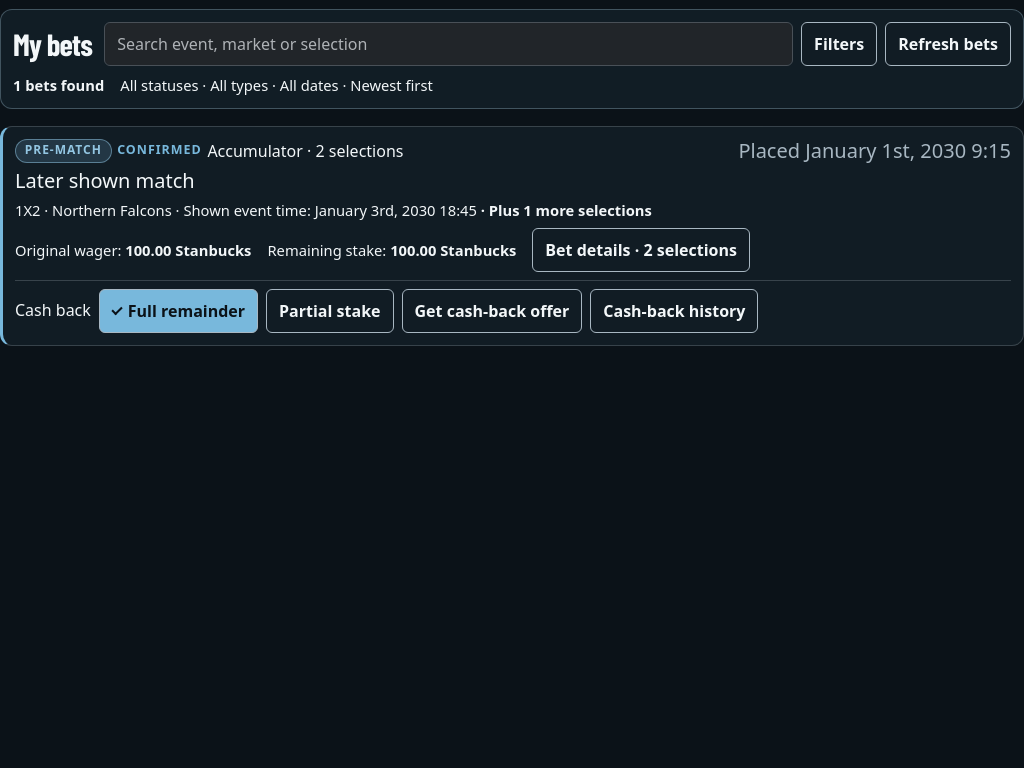
Test: MyBets › associates an accumulator summary time with the shown first event, not its earlier second event
Expected: the heading "Later shown match" is shown, [15,167,195,194]
Expected: the text "Shown event time: January 3rd, 2030 18:45" is shown, [183,200,477,220]
Click the button "Bet details · 2 selections": (641, 250) [532,228,750,272]
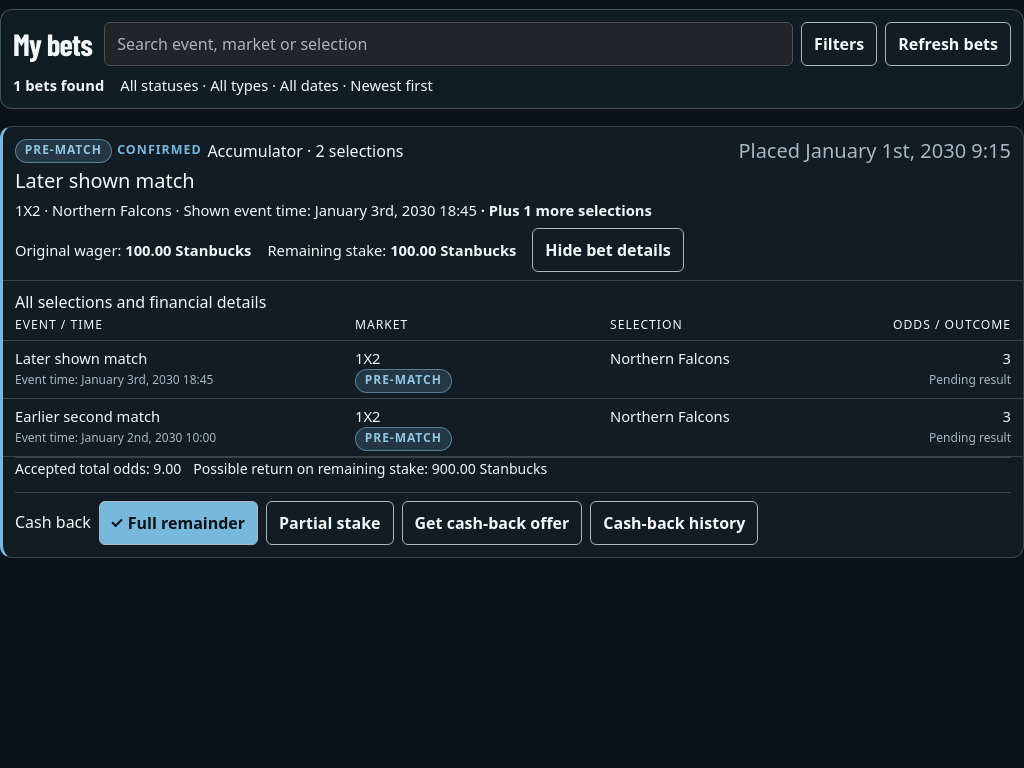
Now the element that starts with "Later shown match" is shown, box [15,348,147,368]
Now the text "Event time: January 3rd, 2030 18:45" is shown, box [15,370,214,388]
Now the element that starts with "Earlier second match" is shown, box [15,406,160,426]
